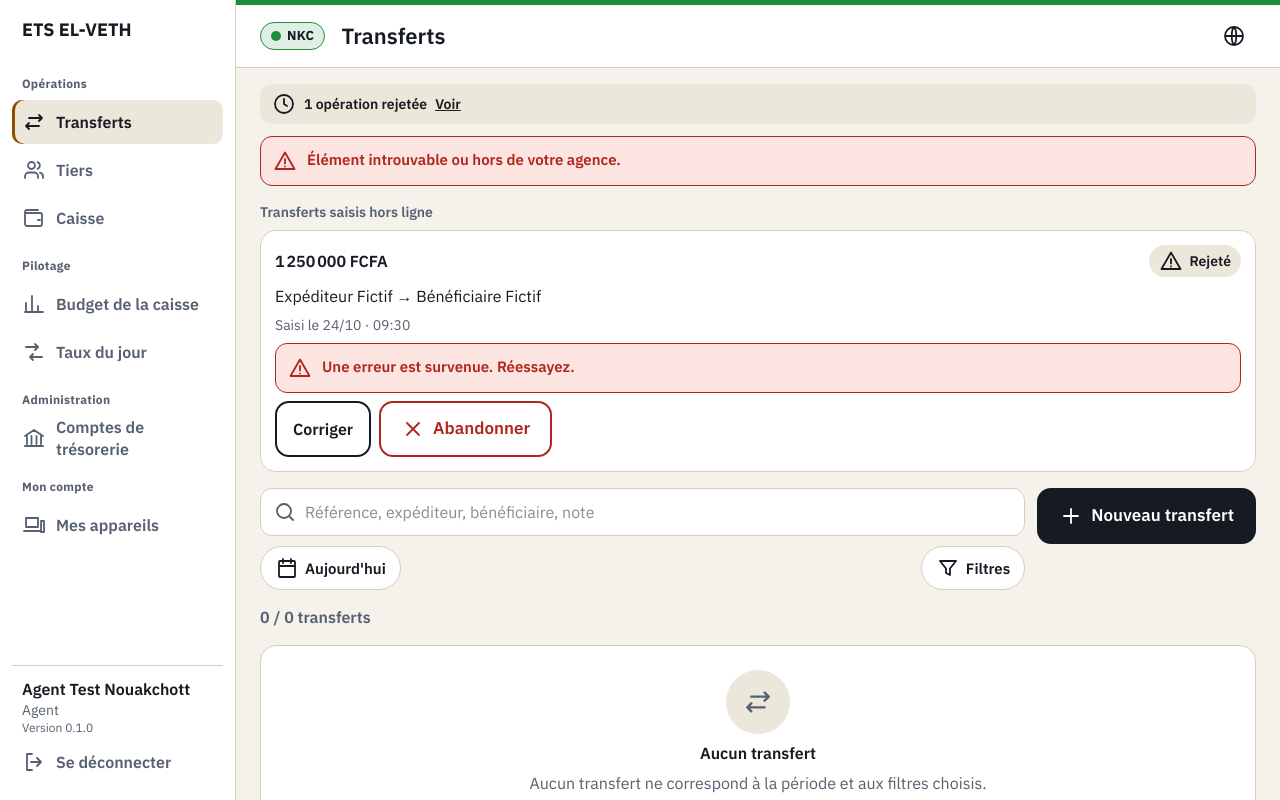
File des créations hors ligne › un refus du serveur à l’envoi : « Rejeté » avec le motif, puis « Abandonner » après confirmation
This screenshot has width=1280, height=800.
Expected: the text "Rejeté" is shown, [1149,245,1241,277]
Expected: the text "1 opération rejetée" is shown, [304,94,427,114]
Click the button "Abandonner" at (466, 429), box [379,401,552,457]
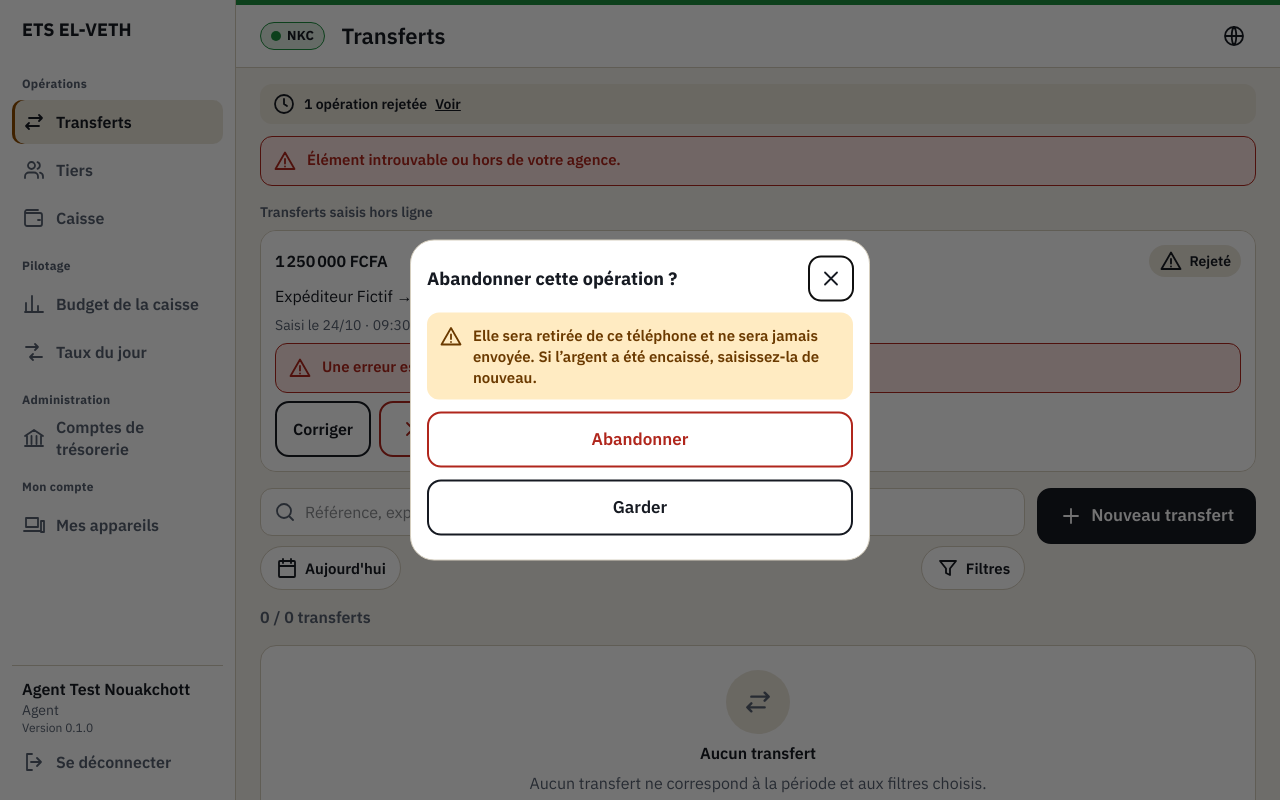
Click the button "Abandonner" at (640, 440), box [427,412,853,468]
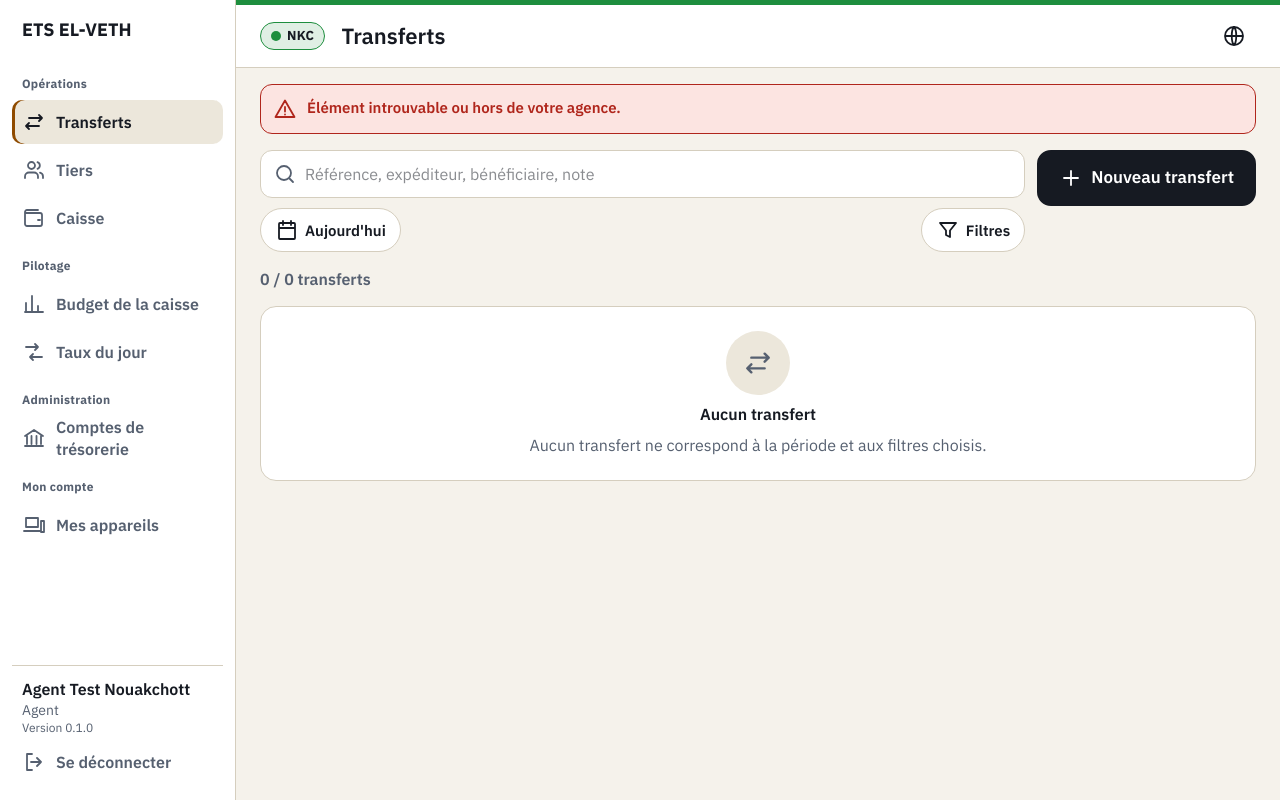
Result: the heading "Transferts saisis hors ligne" is gone
